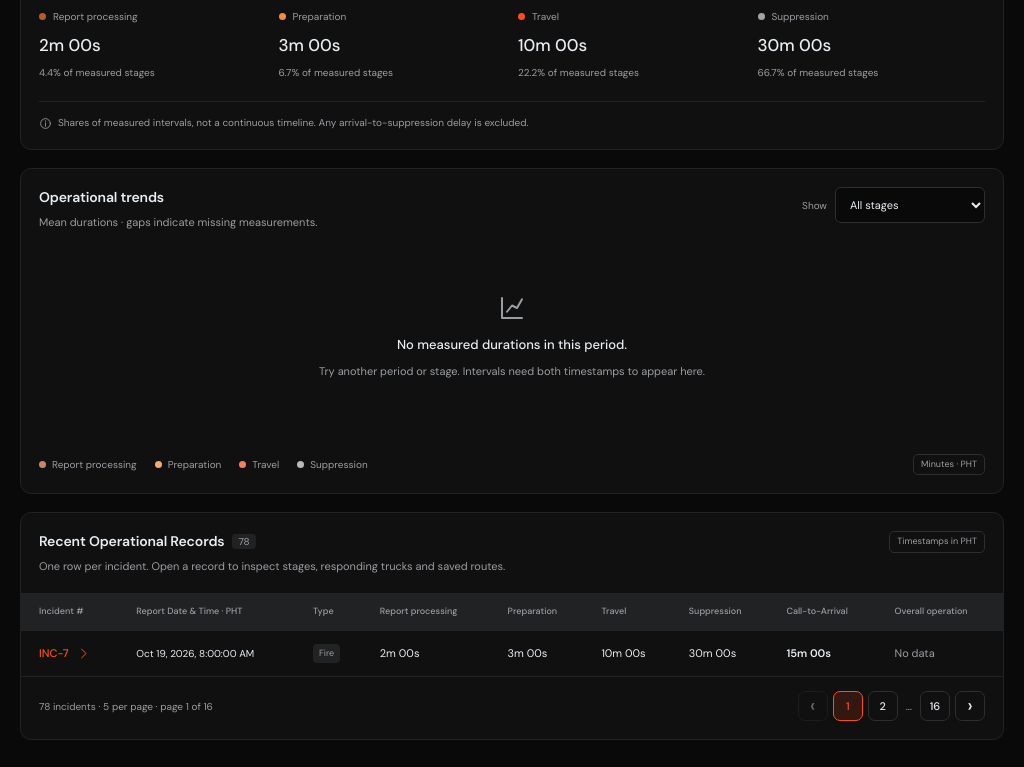
Test case: Operational time analysis › uses server pagination and resets the page when changing data source
The width and height of the screenshot is (1024, 767).
(page scrolled)
Click the button named "Page 16" at (935, 706), box [920,691,950,721]
(page scrolled)
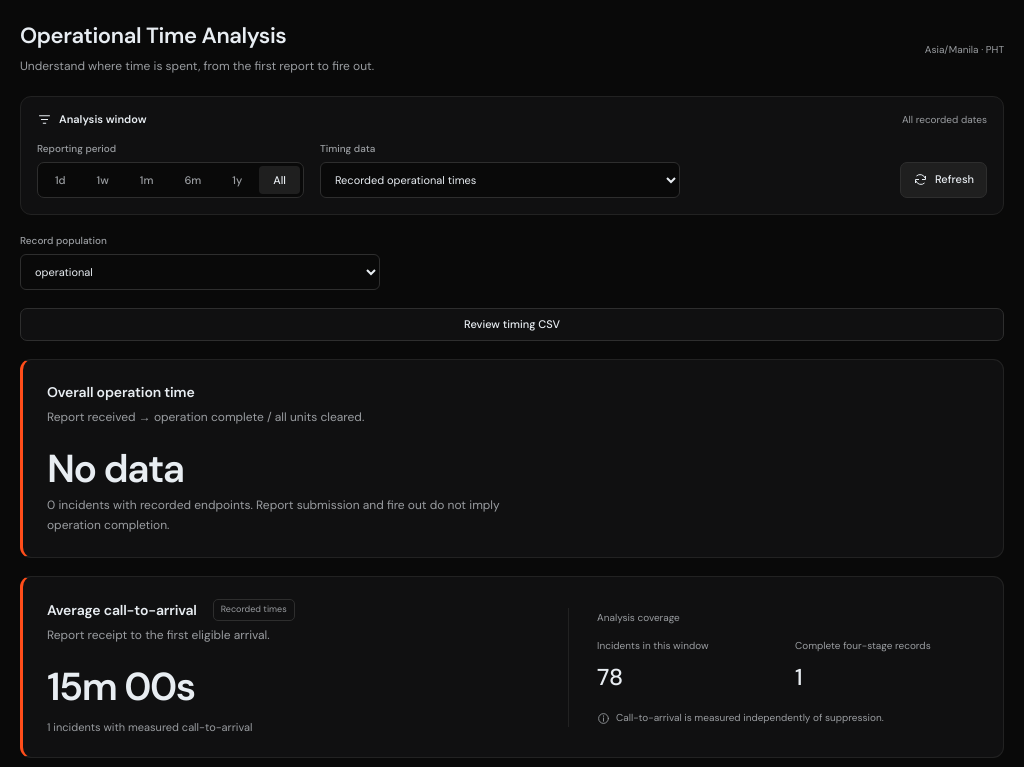
Select "BFP history · synthesized demo times" in the dropdown named "Timing data" at (500, 180), box [320,162,680,198]
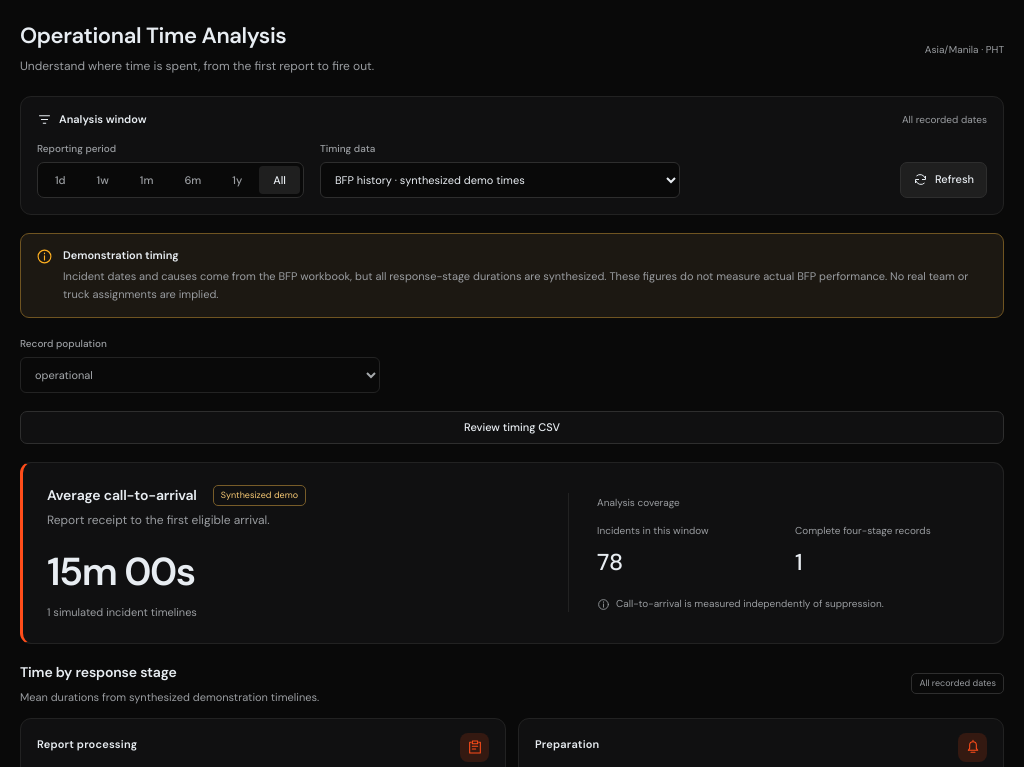
Result: the text "Demonstration timing" is shown at [63,248,179,262]
